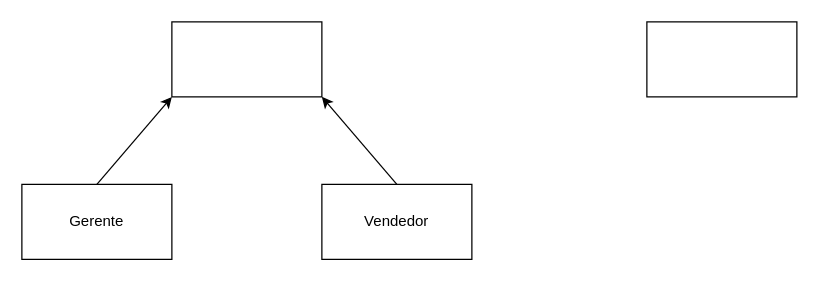
The diagram is 819 pixels wide and 281 high, and some of its shapes have lost their labels. The shapes that lost their labels are listed below. From the top down, each one's centre as x and y in pixels, then its label:
At [246,59]: "Funcionario".
At [721,59]: "RH".
